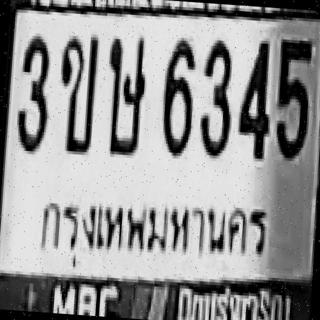A02: (54, 32, 98, 152)
A39: (101, 32, 148, 153)
N03: (195, 36, 234, 156), (13, 32, 52, 152)
N04: (234, 38, 274, 158)
N05: (271, 36, 312, 159)
N06: (157, 35, 196, 155)
P04: (31, 182, 276, 284)
